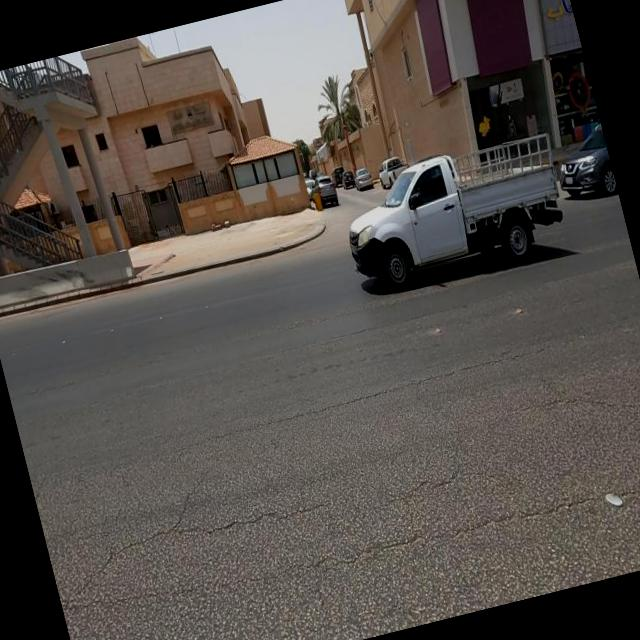debris: (124, 55, 264, 172)
